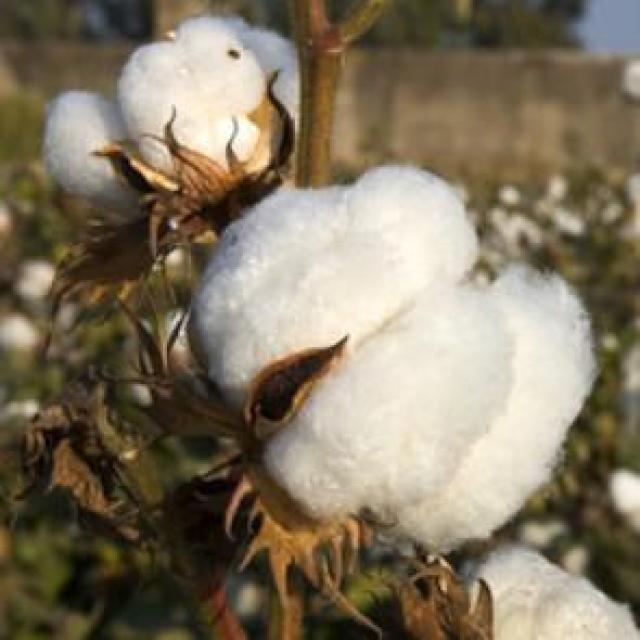Leaf: (179, 154, 613, 584), (31, 14, 325, 239), (424, 532, 640, 634)
